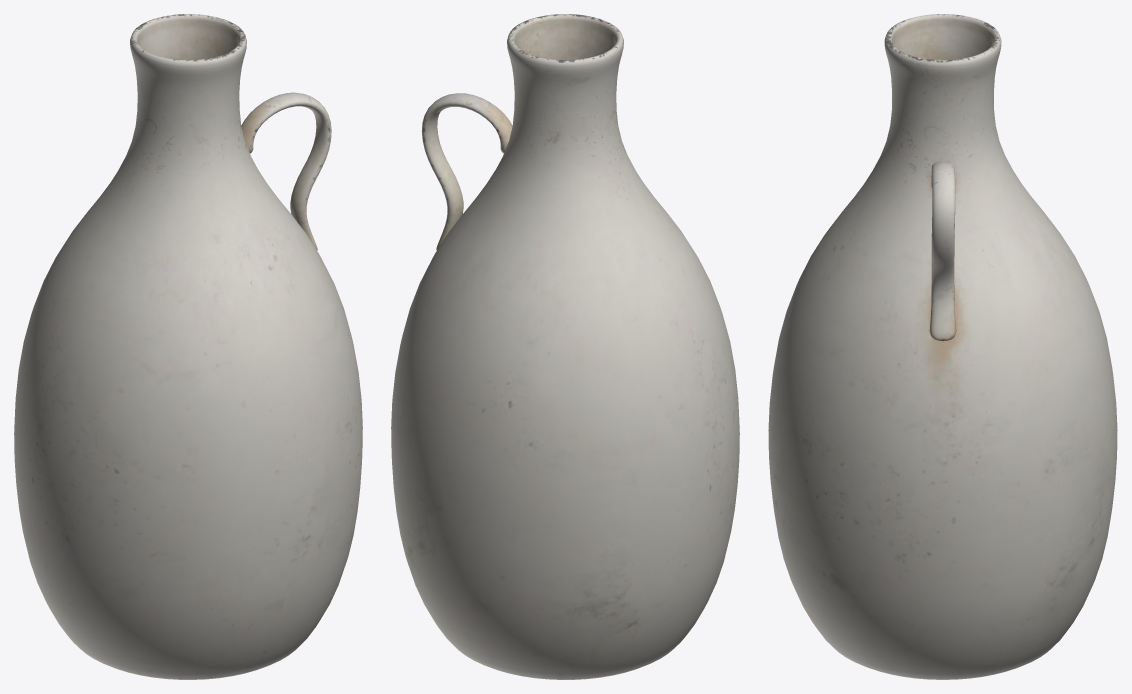
File: ceramic_vase_04.glb
3 views of the same model, side by side, from view 1: azimuth 30°, elevation 25°; view 2: azimuth 150°, elevation 25°; view 3: azimuth 270°, elevation 25° (orthographic).
Visible parts, largest first — view 1: ceramic_vase_04; view 2: ceramic_vase_04; view 3: ceramic_vase_04.
Part boxes in pixels (bbox=[...]): ceramic_vase_04: bbox=[14, 14, 362, 679]; ceramic_vase_04: bbox=[391, 14, 739, 679]; ceramic_vase_04: bbox=[768, 14, 1117, 679].
Size of the model in its own units: 0.1811 by 0.3419 by 0.1811.
1 material, 1 textured.
